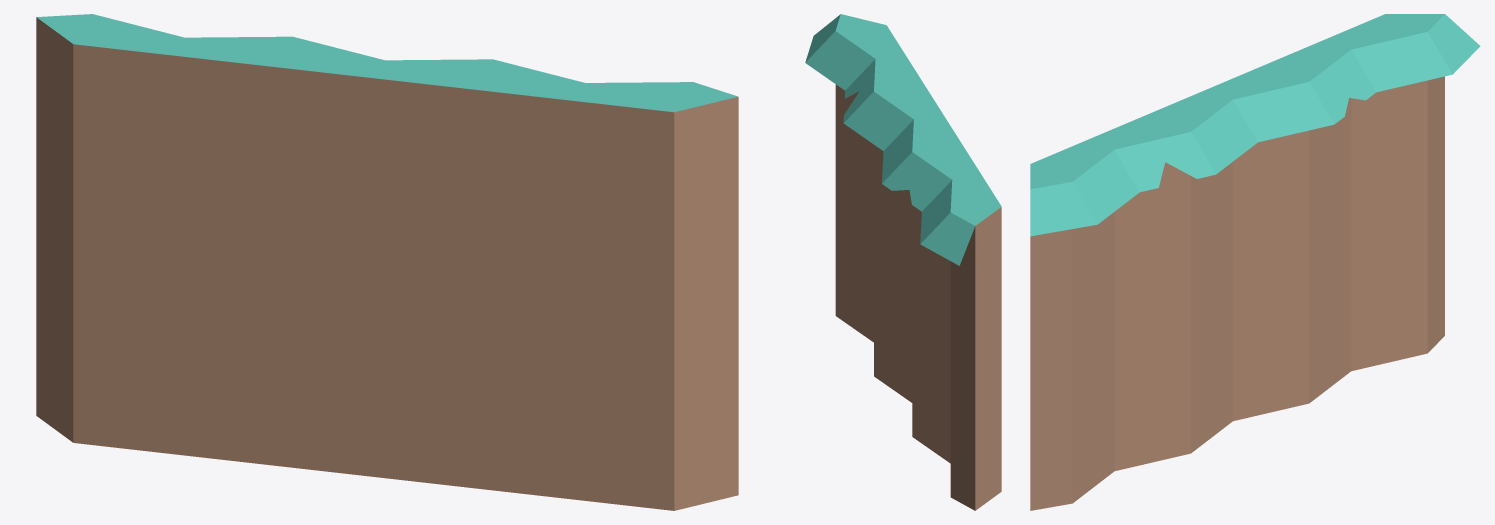
Rendered from cliff_topDiagonal_rock.glb.
The picture shows the model from 3 angles, left to right: view 1: azimuth 30°, elevation 25°; view 2: azimuth 150°, elevation 25°; view 3: azimuth 270°, elevation 25°; orthographic projection. The views are drawn at different scales.
Parts seen in each view (by area): view 1: cliff_topDiagonal_rock; view 2: cliff_topDiagonal_rock; view 3: cliff_topDiagonal_rock.
Part boxes in pixels (x1=…): cliff_topDiagonal_rock: x1=36, y1=14, x2=738, y2=510; cliff_topDiagonal_rock: x1=805, y1=14, x2=1001, y2=510; cliff_topDiagonal_rock: x1=1030, y1=14, x2=1480, y2=510.
Bounding box in the file's own units: 1.27 × 1 × 1.27.
